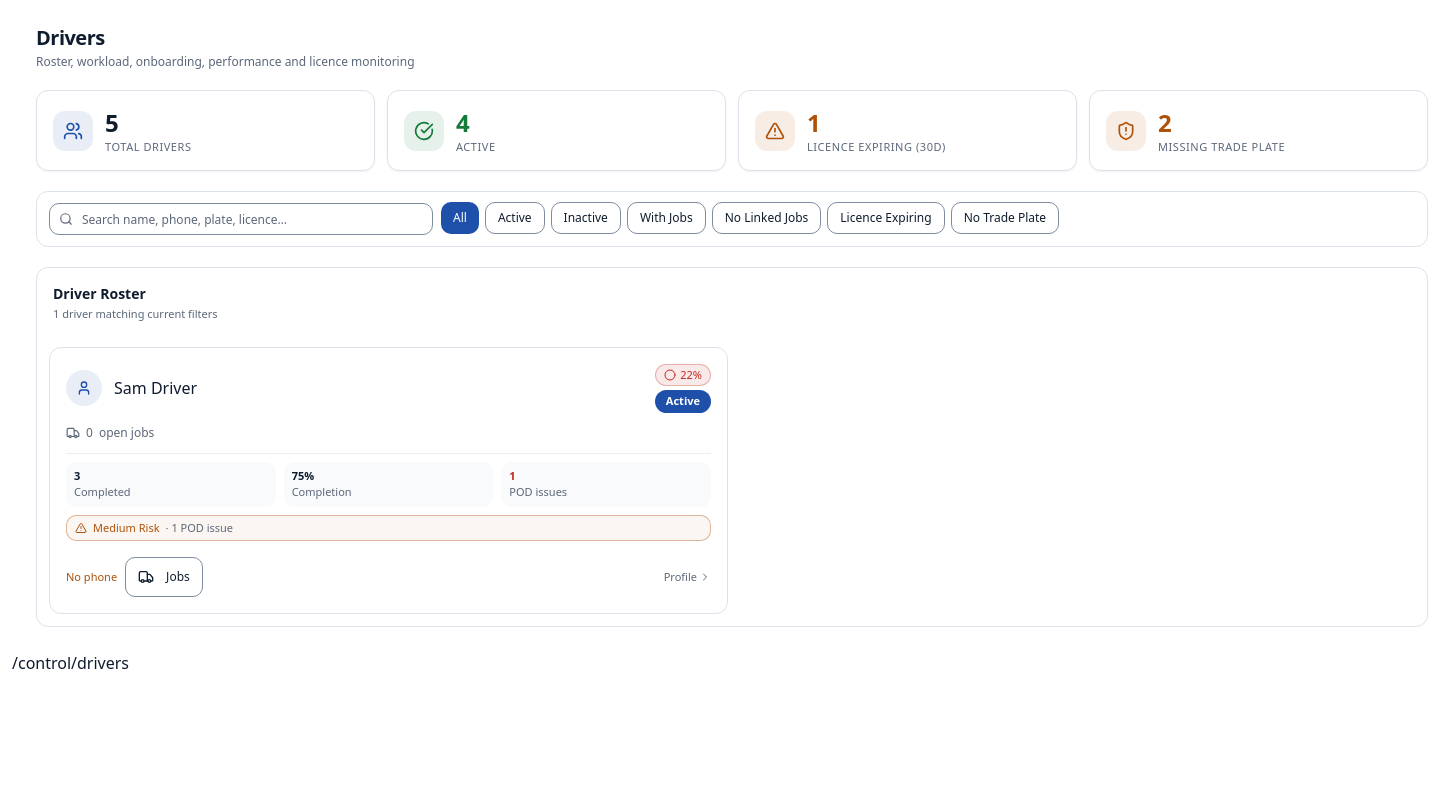
Test: ControlDrivers linking › the filter lives in the URL and old /admin/drivers names are understood
Click the tab "Inactive".
click(586, 218)  # box [551, 202, 621, 234]
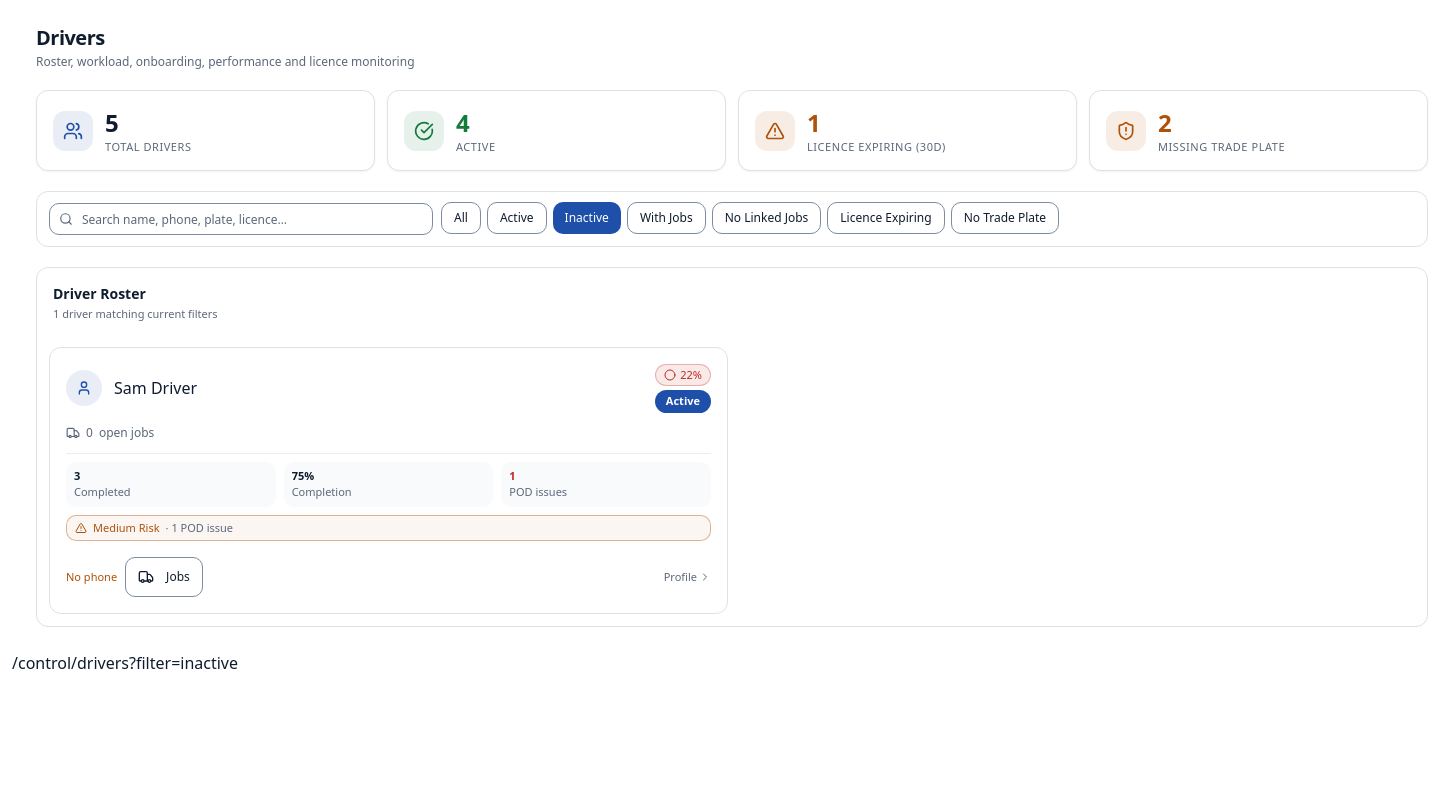
Check: the text with test id "location" reads "/control/drivers?filter=inactive", box [12, 652, 238, 674]
